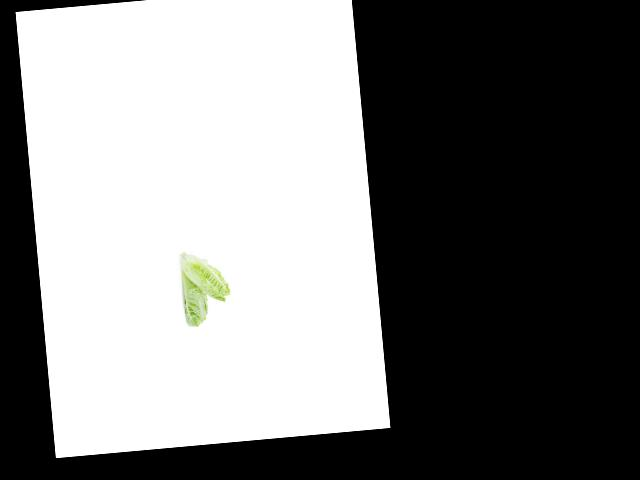lettuce: (175, 266, 211, 332)
